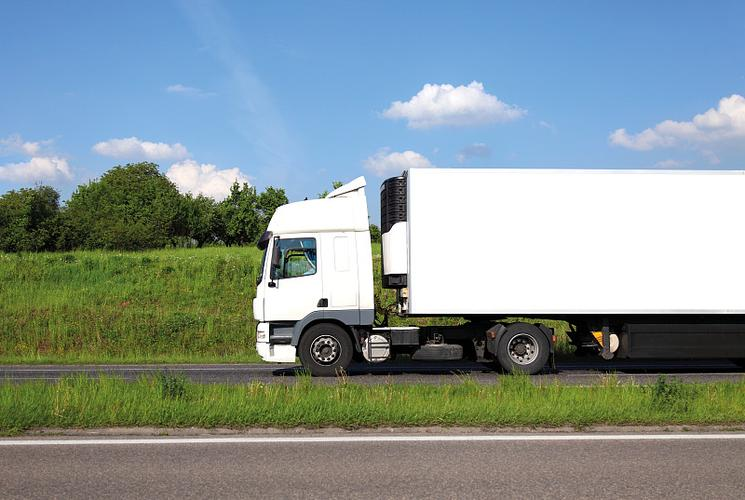卡车: (230, 155, 745, 385)
